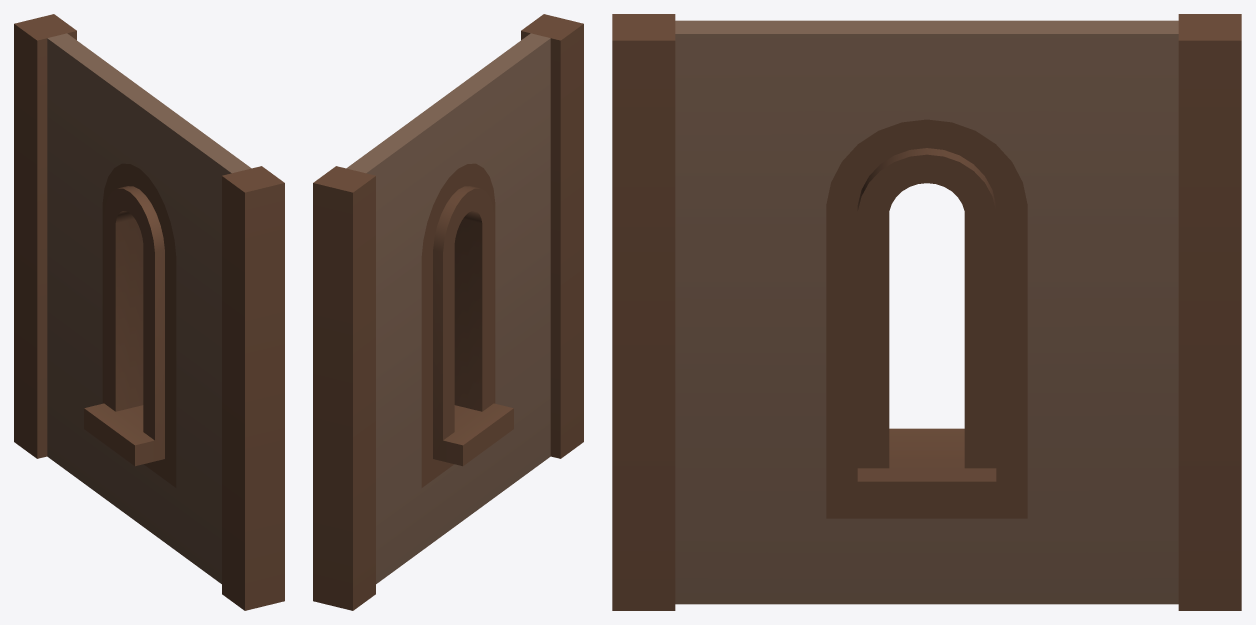
File: wall-wood-window-round.glb
3 renders of one model, left to right at view 1: azimuth 30°, elevation 25°; view 2: azimuth 150°, elevation 25°; view 3: azimuth 270°, elevation 25°, orthographic. The views are drawn at different scales.
Parts seen in each view (by area): view 1: wall-wood-window-round; view 2: wall-wood-window-round; view 3: wall-wood-window-round.
Boxes of the visible parts, <box> form: wall-wood-window-round: <box>14,14,284,610</box>; wall-wood-window-round: <box>313,14,583,610</box>; wall-wood-window-round: <box>612,14,1241,610</box>.
Size of the model in its own units: 0.2 by 1 by 1.
1 material, 1 textured.
